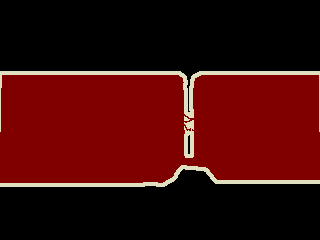train: (1, 72, 320, 191)
